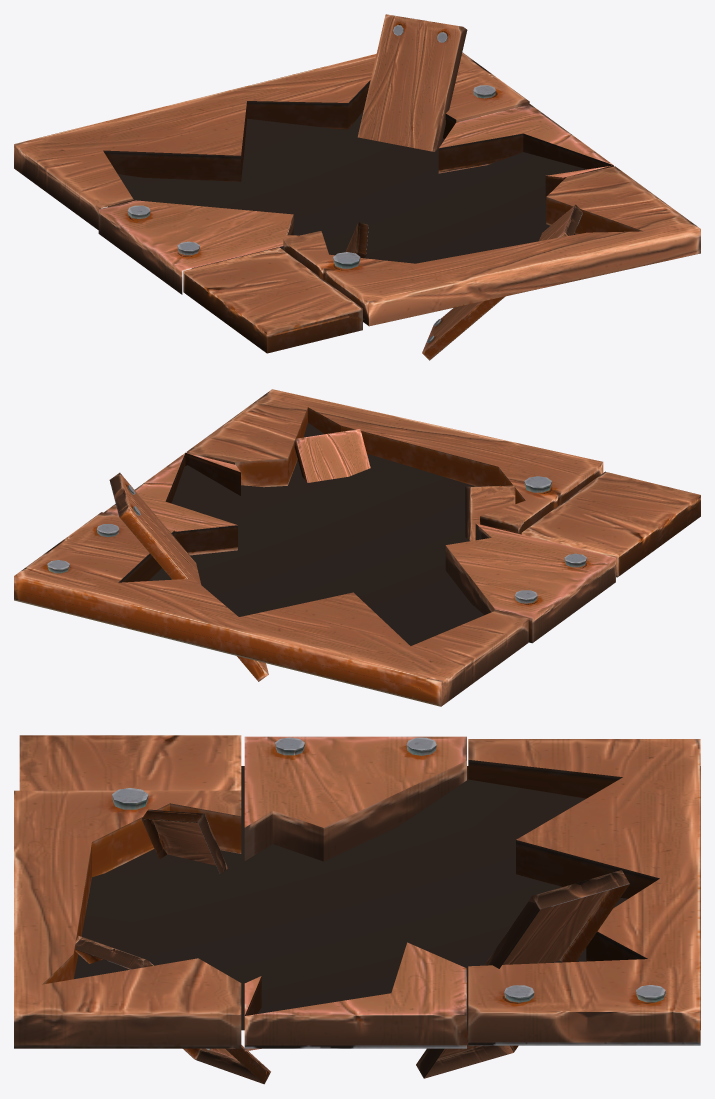
The model's file is SM_Hole_plank.fbx.
3 views of the same model, one above another, from view 1: azimuth 30°, elevation 25°; view 2: azimuth 150°, elevation 25°; view 3: azimuth 270°, elevation 25° (orthographic). The views are drawn at different scales.
Parts seen in each view (by area): view 1: Planche brisé; view 2: Planche brisé; view 3: Planche brisé.
Boxes of the visible parts, left/top/right/bottom form: Planche brisé: left=14, top=14, right=700, bottom=360; Planche brisé: left=14, top=389, right=700, bottom=706; Planche brisé: left=14, top=735, right=700, bottom=1084.
Size of the model in its own units: 152 by 158 by 67.86.
